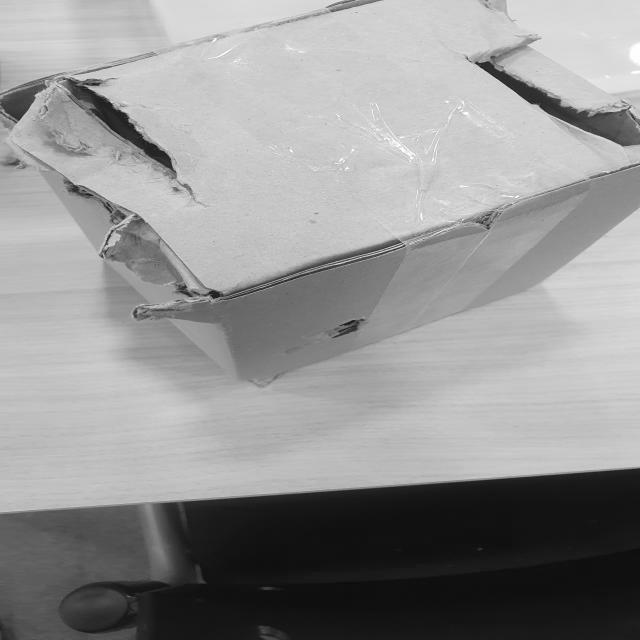hole: (2, 72, 202, 206), (457, 36, 640, 161), (317, 313, 376, 347)
